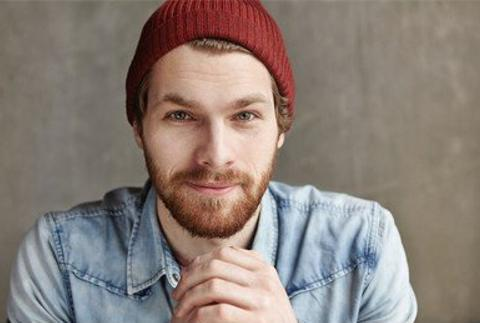Sober: (155, 49, 274, 225)
